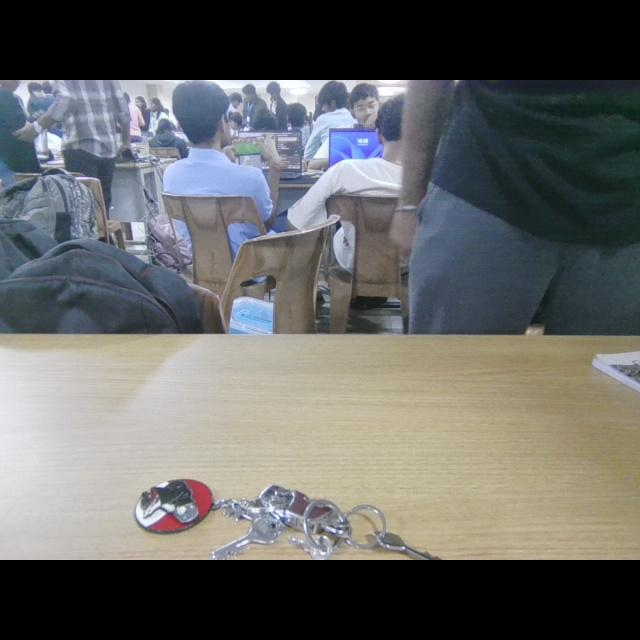keys: (121, 464, 436, 560)
